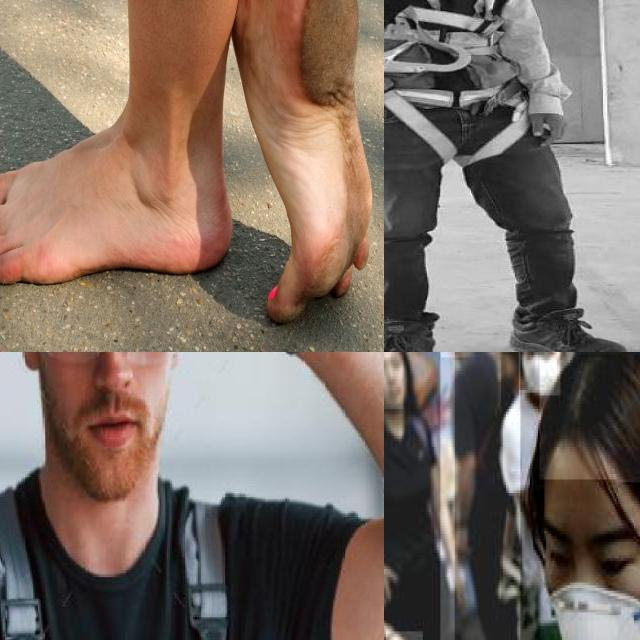Barefoots: (0, 126, 232, 285), (266, 0, 372, 323)
No_Ear-Protection: (14, 352, 42, 381)
No_Glasses: (535, 516, 640, 594)
face_mask: (542, 509, 640, 640), (518, 352, 560, 395)
face_nomask: (40, 352, 170, 501), (384, 352, 405, 411)
hand_noglove: (526, 96, 576, 160), (448, 555, 468, 607)
head_nohelmet: (539, 352, 640, 482)
person: (384, 0, 629, 352), (501, 352, 640, 640), (440, 352, 521, 640), (384, 352, 455, 640)
